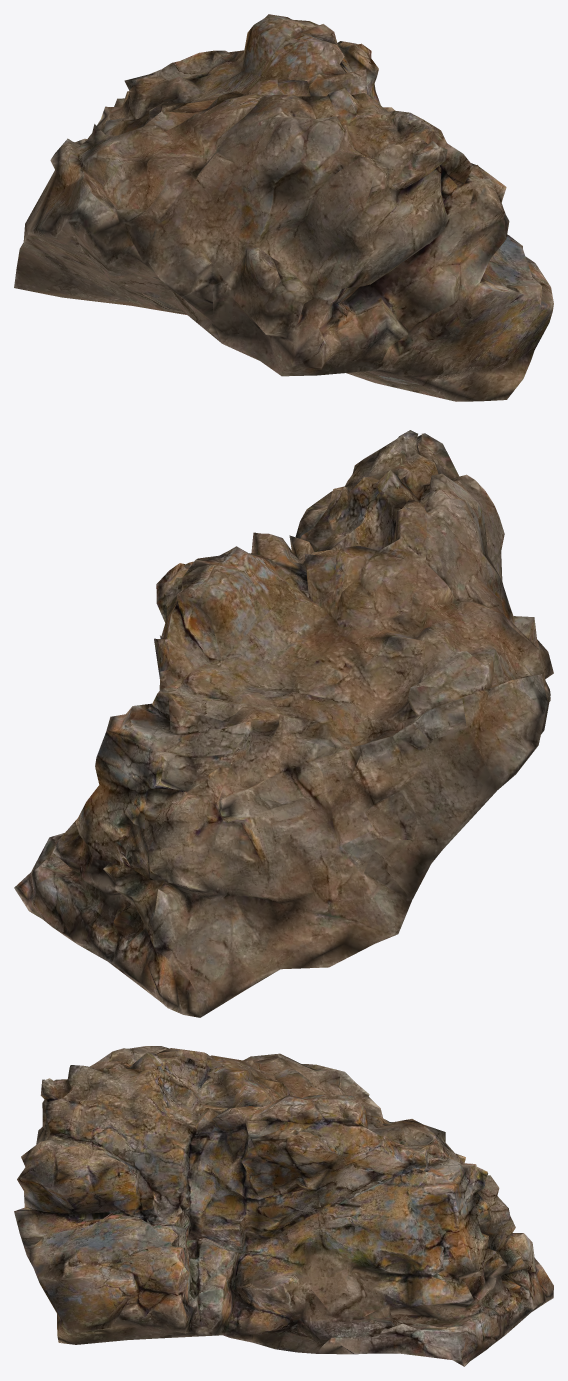
File: boulder_01.glb
3 views of the same model, one above another, from view 1: azimuth 30°, elevation 25°; view 2: azimuth 150°, elevation 25°; view 3: azimuth 270°, elevation 25° (orthographic). The views are drawn at different scales.
Visible parts, largest first — view 1: boulder_01; view 2: boulder_01; view 3: boulder_01.
Part boxes in pixels (x1,y1,x2,y2): boulder_01: (14,14,553,401); boulder_01: (14,430,553,1017); boulder_01: (14,1046,553,1366).
Size of the model in its own units: 1.27 by 1 by 1.82.
Materials: 1 (1 with a texture image).
